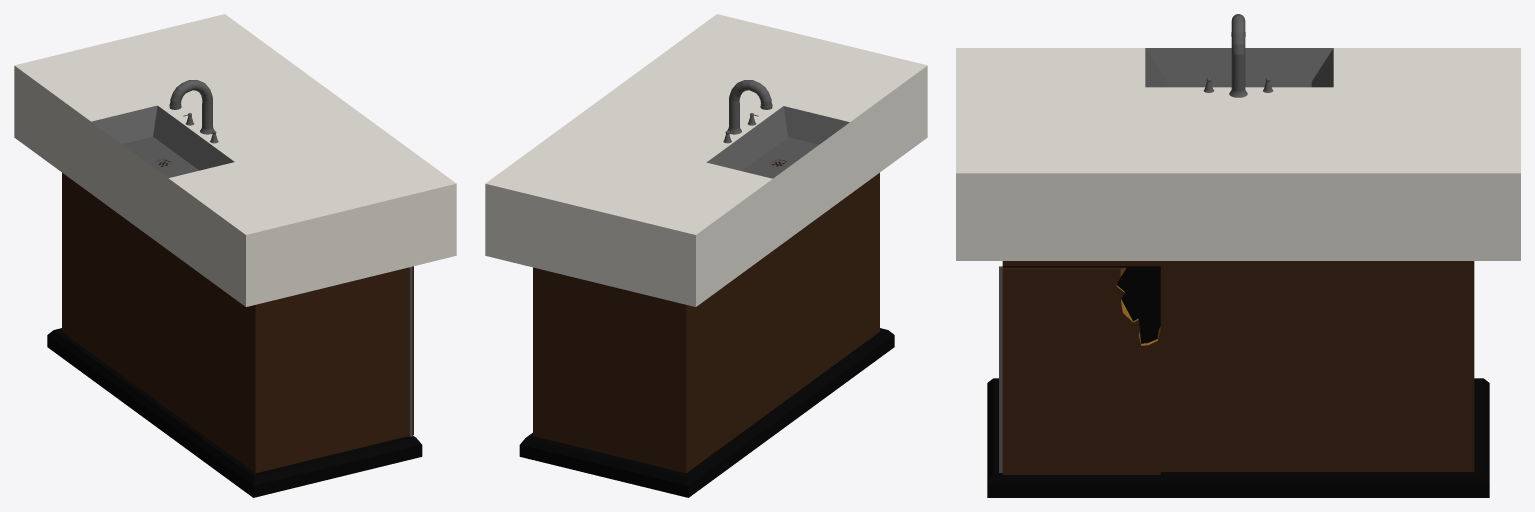
The model's file is KitchenSink.fbx.
The picture shows the model from 3 angles, left to right: view 1: azimuth 30°, elevation 25°; view 2: azimuth 150°, elevation 25°; view 3: azimuth 270°, elevation 25°; orthographic projection. The views are drawn at different scales.
Visible parts, largest first — view 1: Marble Countertop; view 2: Marble Countertop; view 3: Marble Countertop.
Part boxes in pixels (x1=…): Marble Countertop: x1=14, y1=14, x2=456, y2=497; Marble Countertop: x1=485, y1=14, x2=927, y2=497; Marble Countertop: x1=956, y1=14, x2=1520, y2=497.
Size of the model in its own units: 463 by 698 by 882.
